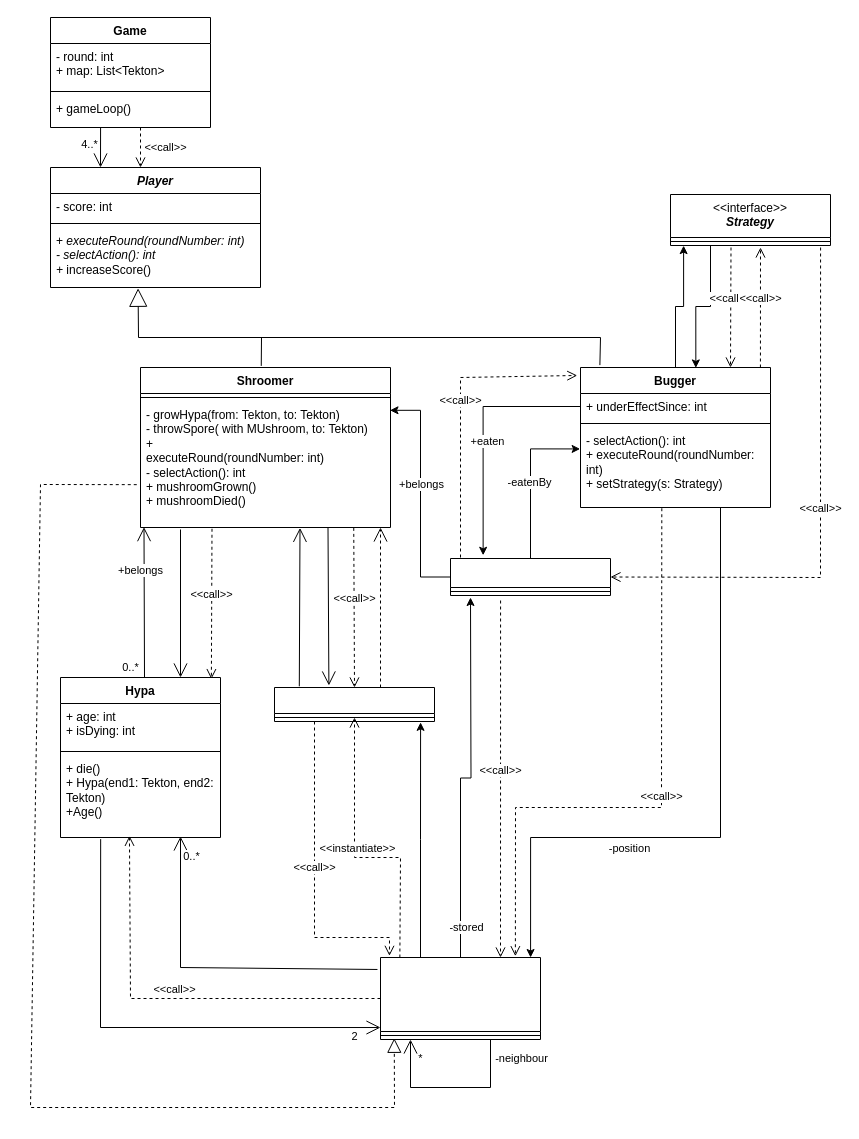
Image size: 859x1139. Some labels were removed from this diagram. The shapes that lost their labels are listed below. From the top down, each one's centre as x and y in pixels, then its label:
point 530,577: Spore
point 354,704: Mushroom
point 460,998: Tekton
